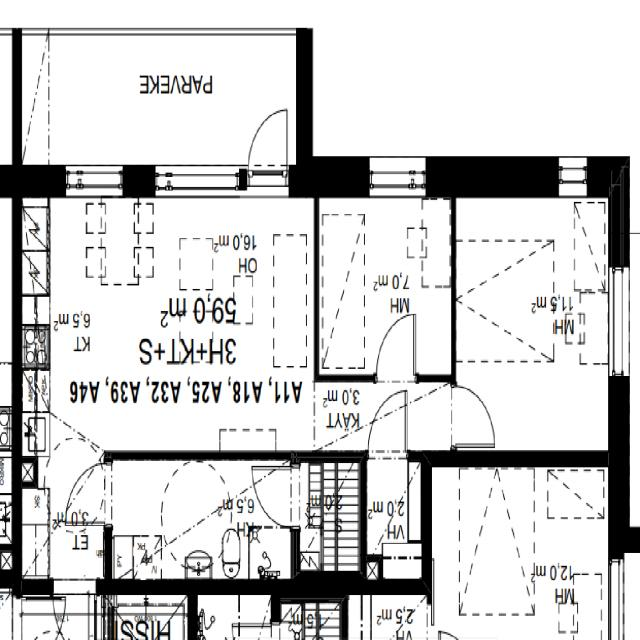door: (248, 105, 287, 198), (253, 466, 299, 526), (66, 464, 111, 525), (368, 390, 407, 460), (376, 314, 416, 382), (451, 386, 495, 447)
